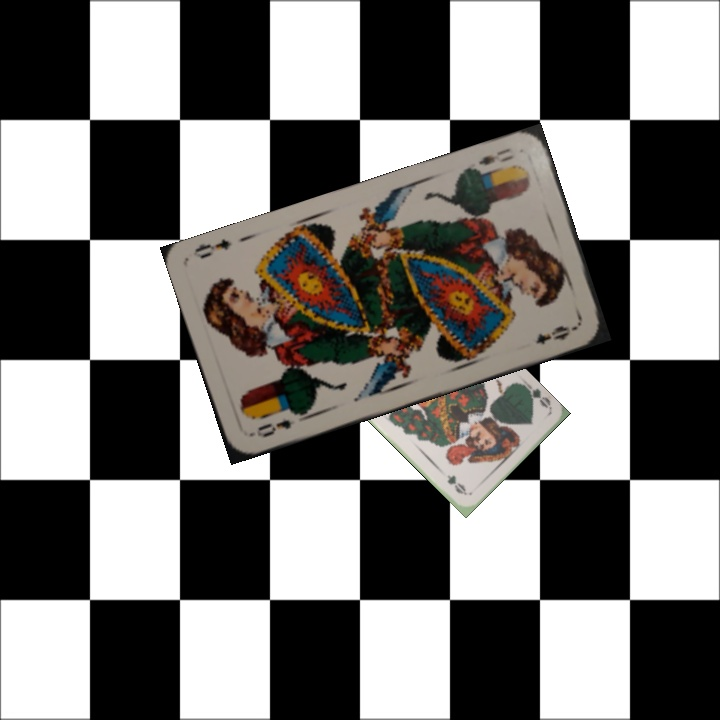EO: (247, 407, 303, 440), (474, 144, 517, 168)
GO: (518, 378, 553, 411)
